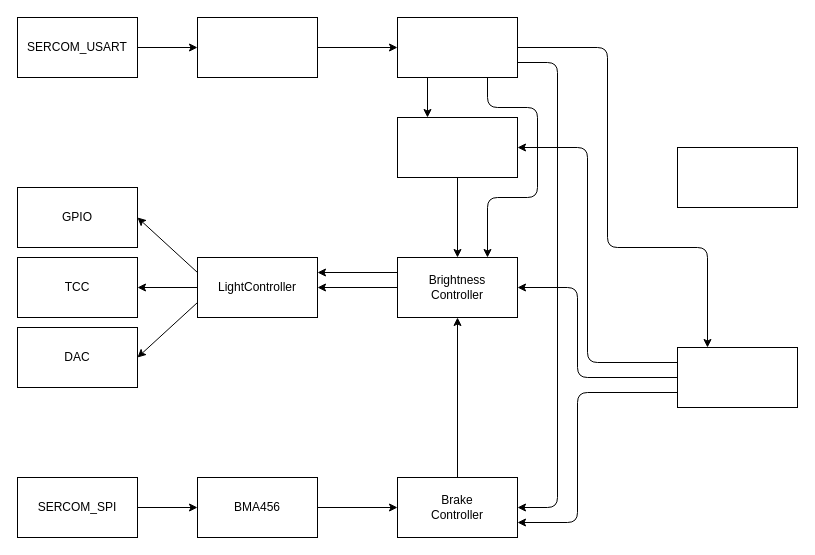
Image size: 815x555. Some labels were removed from this diagram. The shapes that lost their labels are listed below. From the top down, each one's centre as x and y in pixels, then its label:
At point 257,47: "UART".
At point 457,47: "Communication".
At point 457,147: "StrobeController".
At point 737,177: "Scheduler".
At point 737,377: "System State Controller".
